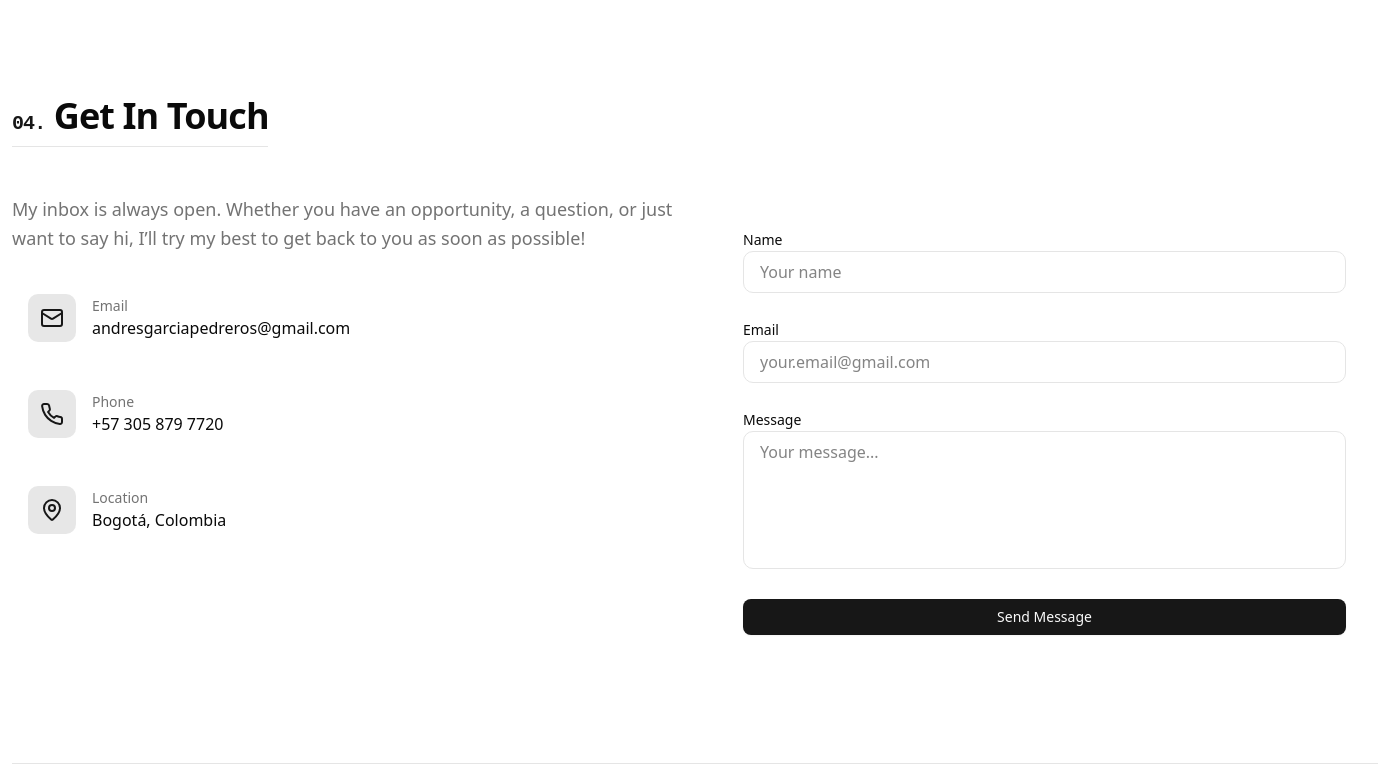
Test case: Contact Component › shows error when fetch fails
The image size is (1378, 768).
Type "Andrés" into the field labelled "Name" at (1044, 272), box x1=743 y1=251 x2=1346 y2=293
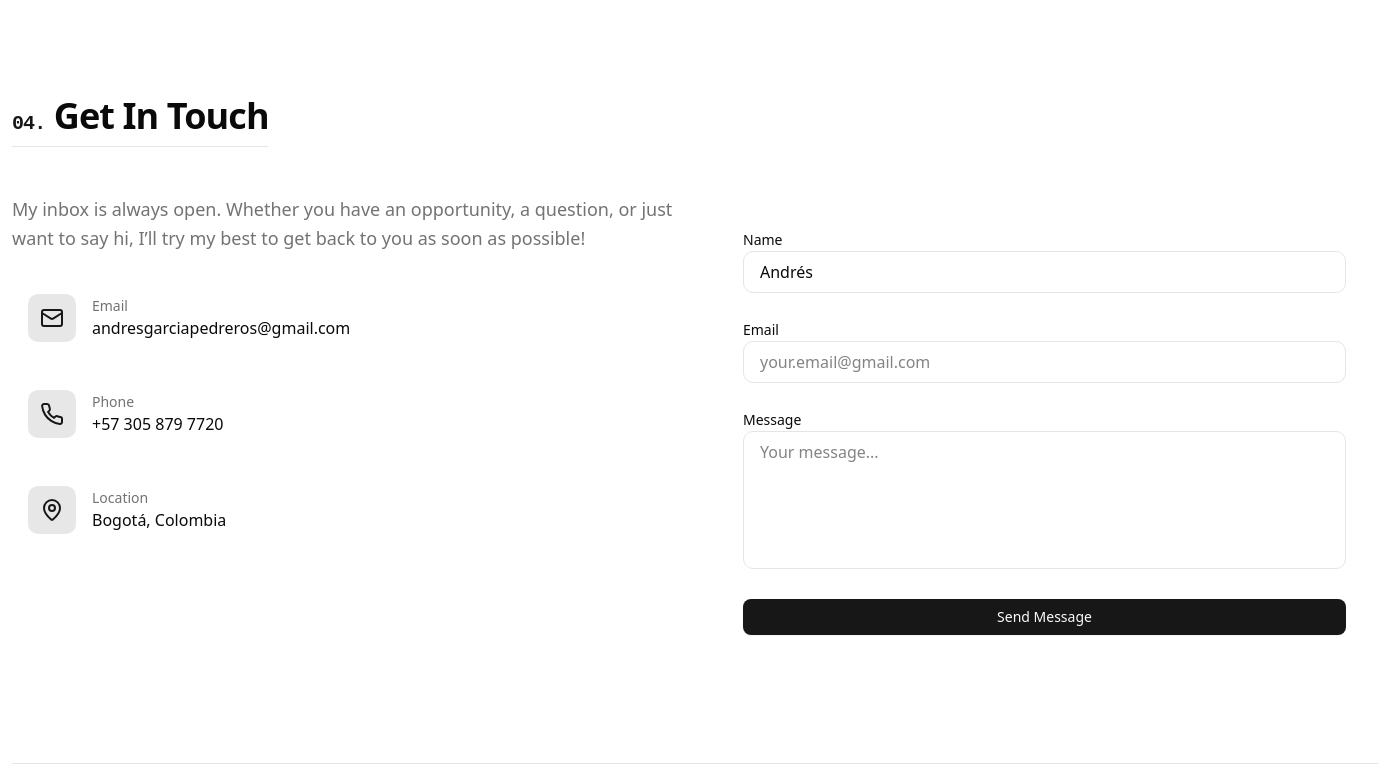
Type "test@mail.com" into the field labelled "Email" at (1044, 362), box x1=743 y1=341 x2=1346 y2=383
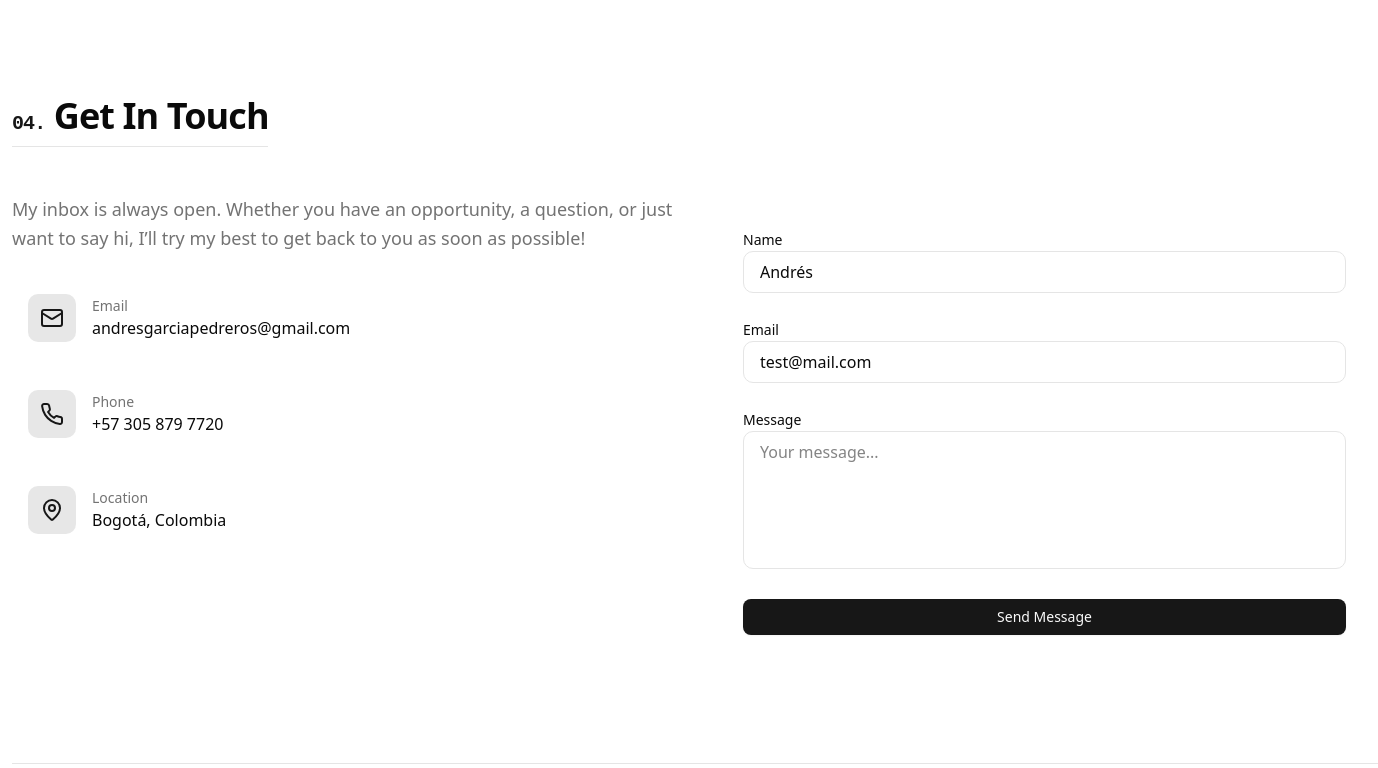
Type "Hola mundo" into the text box labelled "Message" at (1044, 500), box x1=743 y1=431 x2=1346 y2=569
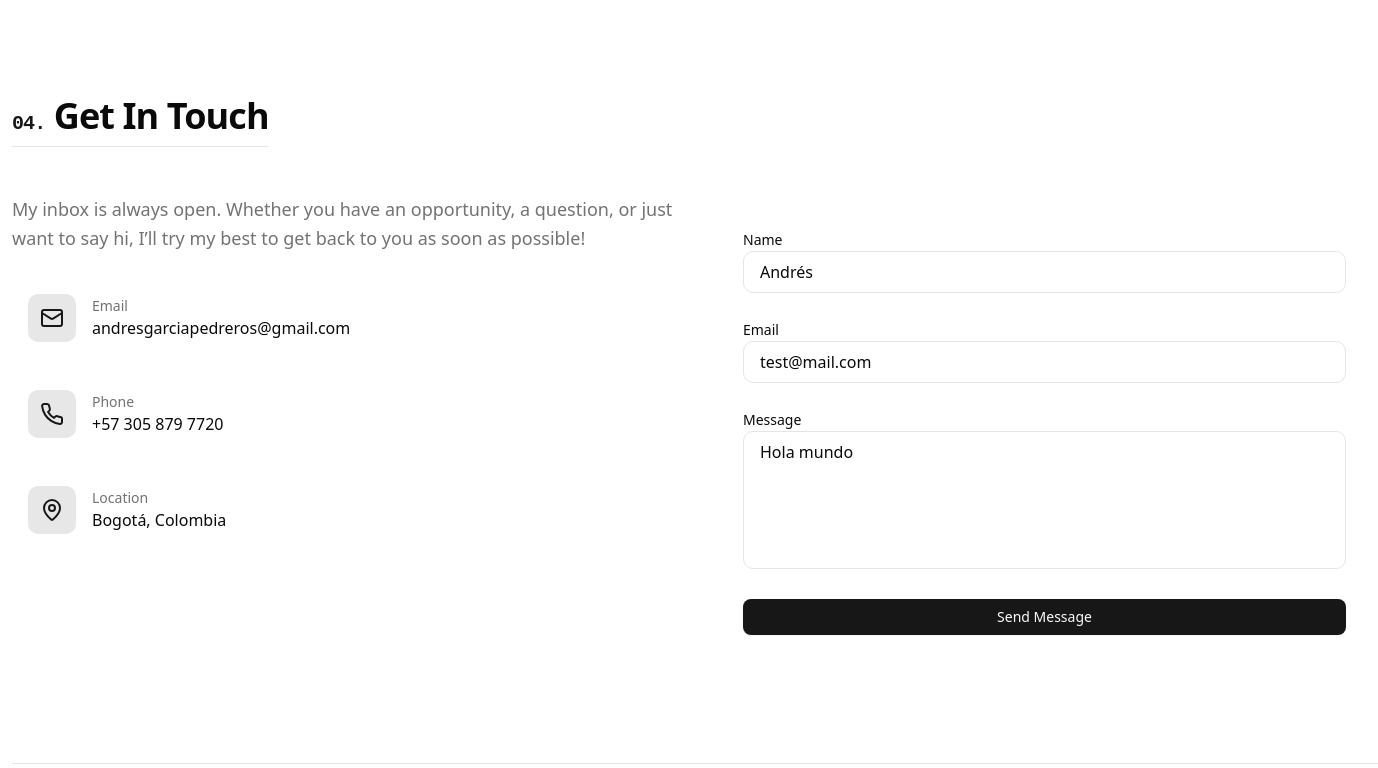
Submit the form "Name Email Message Send Message", box x1=743 y1=227 x2=1346 y2=635
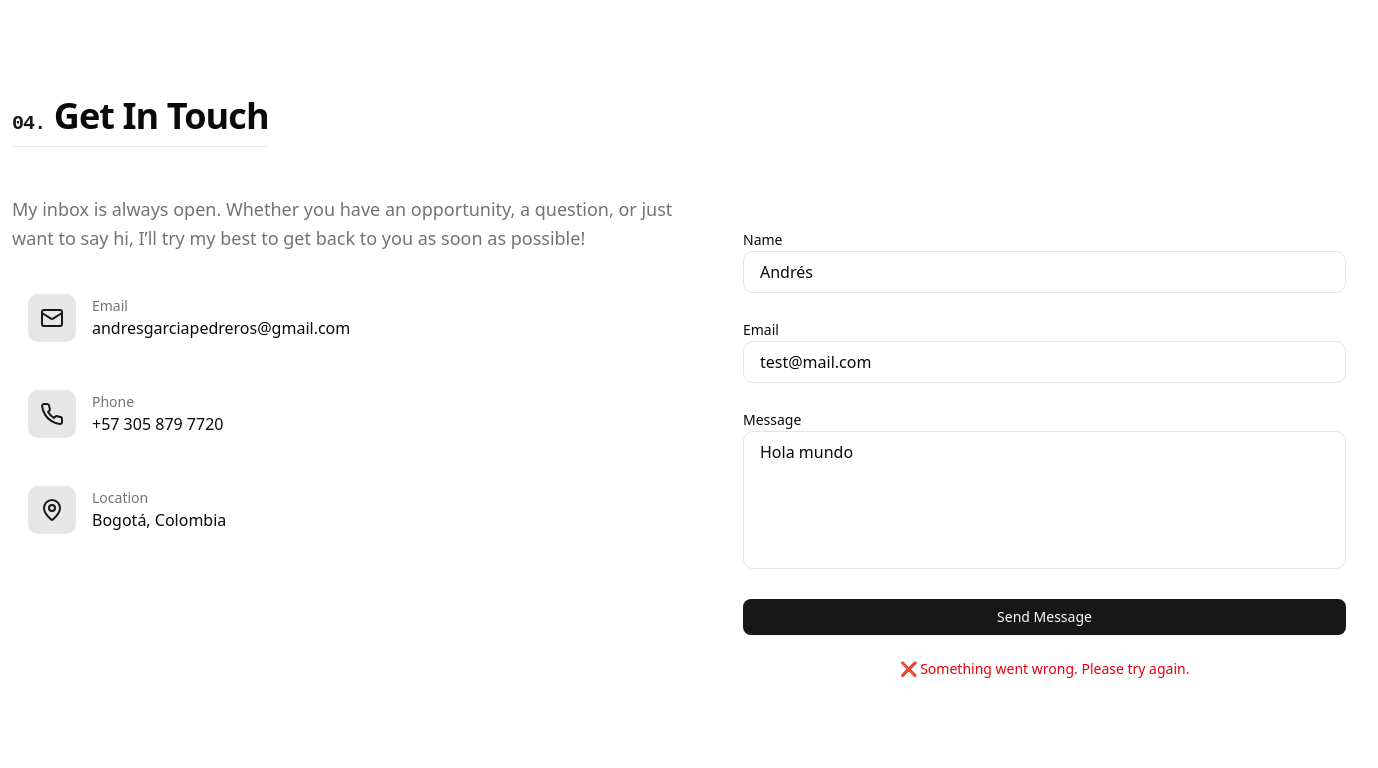
Now the text "❌ Something went wrong. Please try again." is shown, box x1=900 y1=659 x2=1189 y2=678
